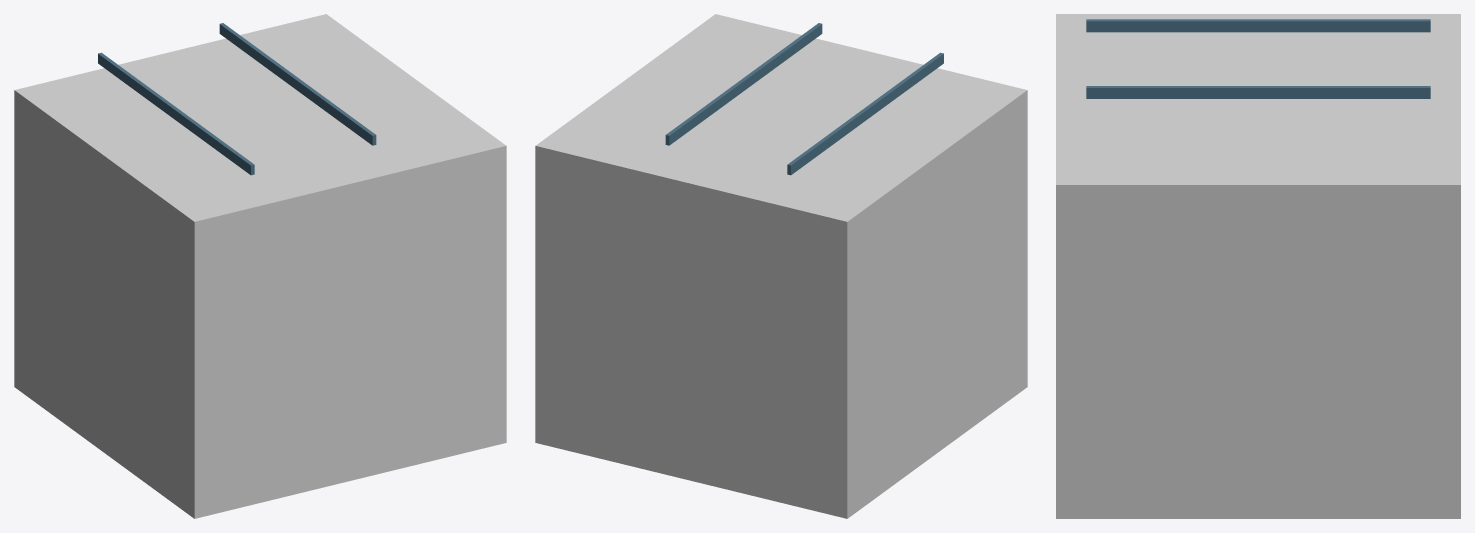
Rendered from river.glb.
3 views of the same model, side by side, from view 1: azimuth 30°, elevation 25°; view 2: azimuth 150°, elevation 25°; view 3: azimuth 270°, elevation 25° (orthographic). The views are drawn at different scales.
Parts seen in each view (by area): view 1: beret/surface; view 2: beret/surface; view 3: beret/surface.
Boxes of the visible parts, x1,y1,x2,y2 form: beret/surface: (14,14,506,518); beret/surface: (535,14,1027,518); beret/surface: (1056,14,1460,518).
Bounding box in the file's own units: 1 × 1 × 1.
